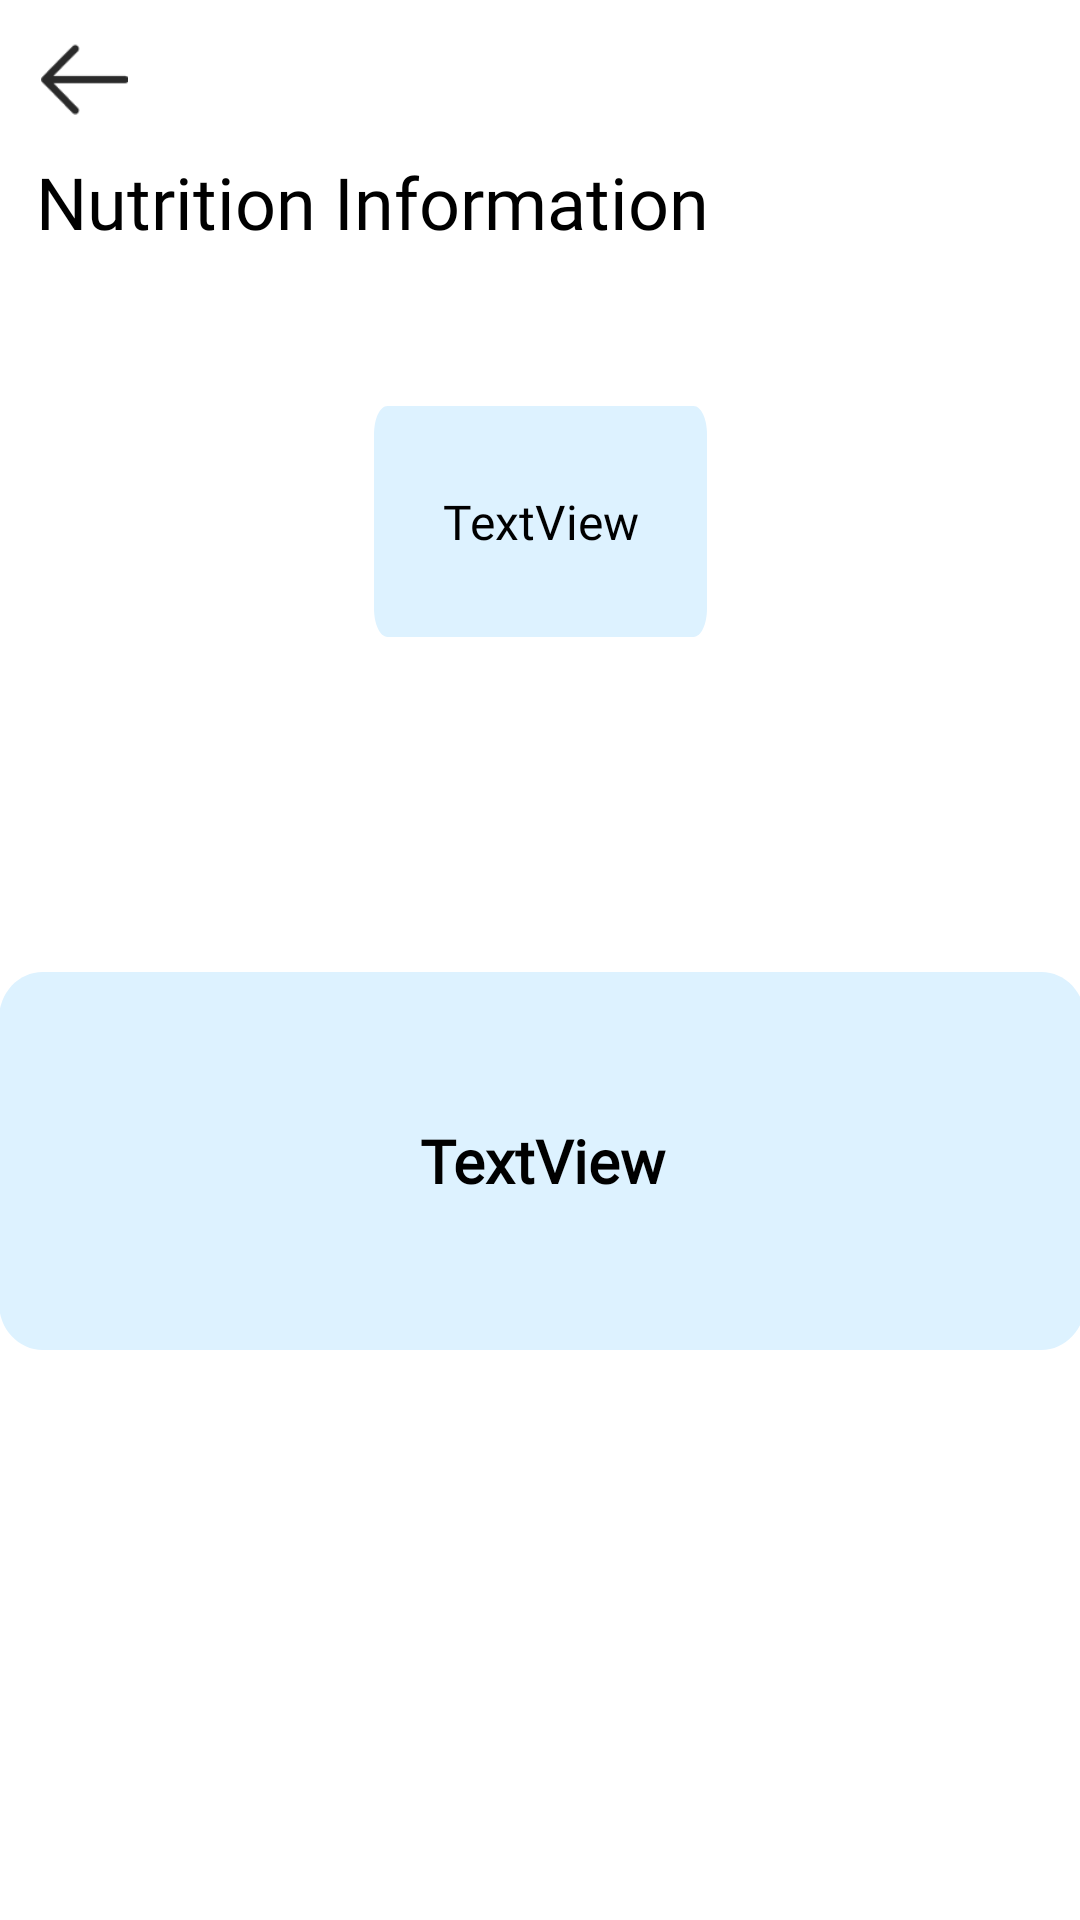

Locate icon controls on the screen. Image size 1080×1920, boxes as (x1, y1, x2, y2).
arrow: (41, 44, 128, 115)
